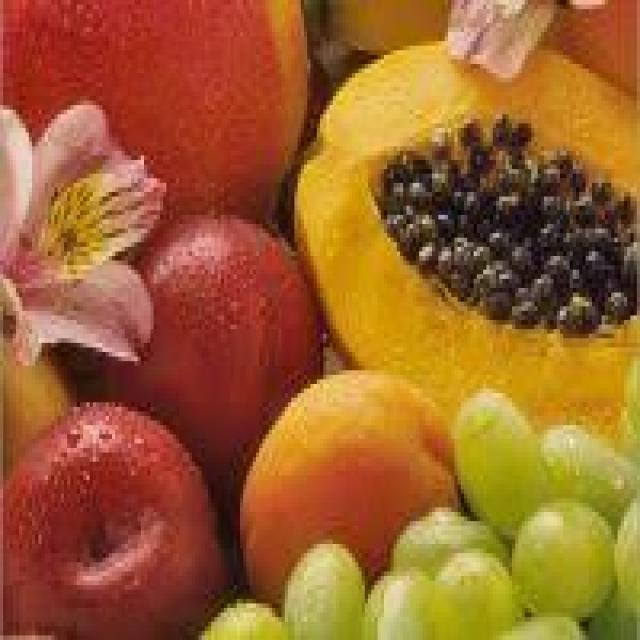organic waste: (288, 28, 637, 452), (0, 0, 307, 238), (109, 215, 323, 480), (0, 398, 227, 635), (237, 366, 461, 599), (0, 105, 154, 366), (313, 0, 636, 91), (506, 493, 614, 612), (0, 320, 80, 480), (454, 393, 544, 530), (442, 0, 620, 69), (544, 416, 637, 512), (282, 535, 368, 635), (390, 503, 512, 571), (429, 544, 512, 635), (365, 572, 445, 636), (195, 594, 282, 636), (611, 498, 637, 604), (512, 608, 582, 635)
